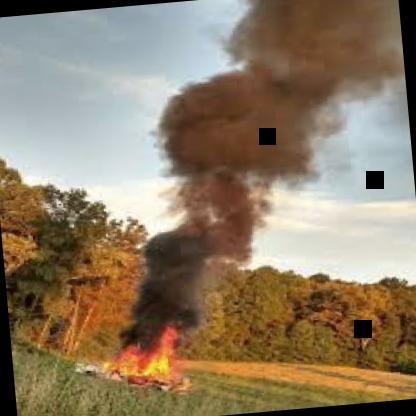fire: (89, 265, 217, 407)
